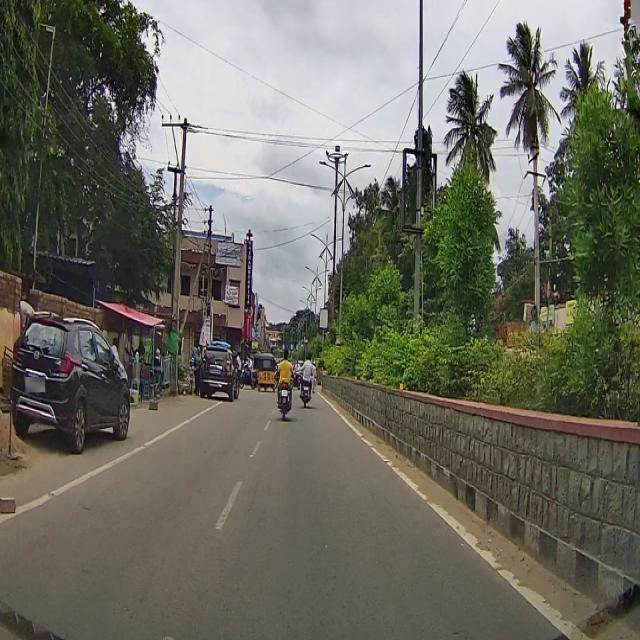car ahead at: (8, 302, 138, 454), (192, 339, 242, 406)
motorcycle ahead at: (274, 377, 300, 423)
